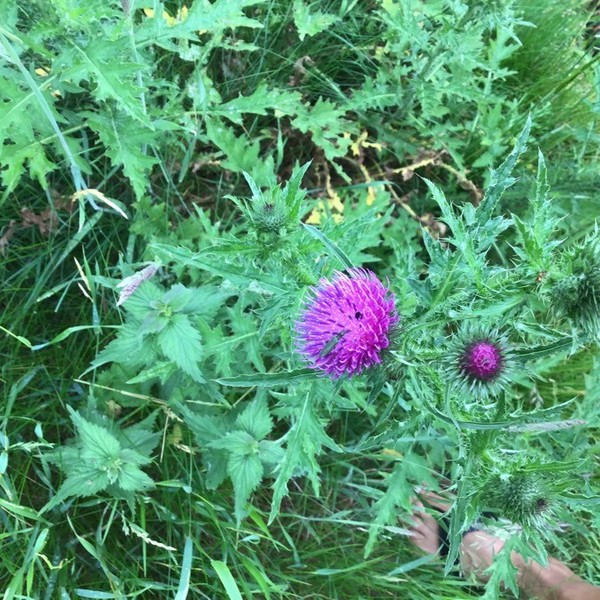obstacle: (15, 24, 514, 522), (123, 188, 424, 454)
